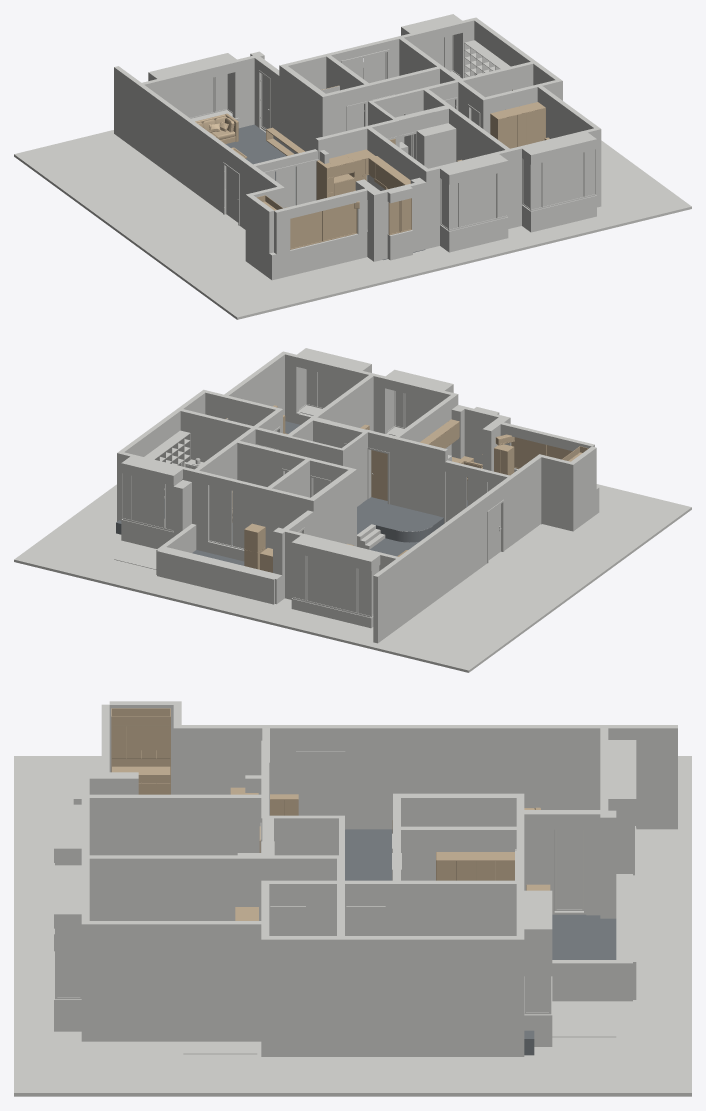
File: interaction_proxy.glb
3 renders of one model, top to bottom at view 1: azimuth 30°, elevation 25°; view 2: azimuth 150°, elevation 25°; view 3: azimuth 270°, elevation 25°, orthographic. The views are drawn at different scales.
Visible parts, largest first — view 1: R3_HOUSE_WALLS_D107_ROLLED_BACK.001, SITE_GROUND.001, V4_W-MB-S_FRONT_GLASS_1.001, V4_W-SMB-S_FRONT_GLASS_1.001, LIVING_FIX_BAY_FRONT_GLASS_1.001, FLOOR_LOWER.001, V2_KITCHEN_DISPLAY_CABINET_REAR_WALL.001, B11_SITE_BALCONY_WINDOW_GLASS_1.001, B11_SITE_BALCONY_WINDOW_GLASS_0.001, R3_COMPLETE_PARTITION_WALLS.001, B11_Rectangle047_CATALOG_00_00.001, B11_G-DIN-LIV_HOST_GLASS2.001 (+6 smaller); view 2: R3_HOUSE_WALLS_D107_ROLLED_BACK.001, SITE_GROUND.001, R4_UPPER_FLOOR_CONTINUOUS_STRAIGHT_THRESHOLD.001, LIVING_FIX_BAY_FRONT_GLASS_1.001, R3_COMPLETE_PARTITION_WALLS.001, V4_W-STUDY-NE_FRONT_GLASS_1.001, V4_GUEST_B11_G-GB-BALC_HOST_GLASS1.001, V2_KITCHEN_DISPLAY_CABINET_REAR_WALL.001, V4_GUEST_B11_G-GB-BALC_HOST_GLASS0.001, V4_W-MB-S_FRONT_GLASS_1.001, R4_BEDROOM_DOOR_LEAF.001, FLOOR_LOWER.001 (+9 smaller); view 3: R3_HOUSE_WALLS_D107_ROLLED_BACK.001, SITE_GROUND.001, FLOOR_LOWER.001, R3_COMPLETE_PARTITION_WALLS.001, PLATE_GAP20_TO_VERIFY.001, DOOR_V2_NBALC_SINGLE_GLASS.001, V4_ENT-1_LEAF_1.001, V4_W-MB-S_SIDE_1_GLASS_0.001, V4_W-STUDY-NE_SIDE_1_GLASS_0.001, V5_CORNER_PATCH_J21_1.001, V5_CORNER_PATCH_J26_1.001, B11_SITE_BUFFET_BACK.001 (+10 smaller).
Part boxes in pixels (x1,y1,x2,y2): R3_HOUSE_WALLS_D107_ROLLED_BACK.001: [114, 14, 598, 278]; SITE_GROUND.001: [14, 128, 691, 319]; V4_W-MB-S_FRONT_GLASS_1.001: [543, 152, 583, 206]; V4_W-SMB-S_FRONT_GLASS_1.001: [460, 174, 496, 226]; LIVING_FIX_BAY_FRONT_GLASS_1.001: [164, 77, 213, 117]; FLOOR_LOWER.001: [225, 124, 425, 259]; V2_KITCHEN_DISPLAY_CABINET_REAR_WALL.001: [248, 195, 273, 253]; B11_SITE_BALCONY_WINDOW_GLASS_1.001: [323, 203, 356, 240]; B11_SITE_BALCONY_WINDOW_GLASS_0.001: [290, 211, 322, 248]; R3_COMPLETE_PARTITION_WALLS.001: [370, 102, 447, 157]; B11_Rectangle047_CATALOG_00_00.001: [195, 113, 238, 143]; B11_G-DIN-LIV_HOST_GLASS2.001: [297, 161, 315, 204]; R3_HOUSE_WALLS_D107_ROLLED_BACK.001: [120, 348, 596, 643]; SITE_GROUND.001: [14, 484, 691, 672]; R4_UPPER_FLOOR_CONTINUOUS_STRAIGHT_THRESHOLD.001: [116, 421, 443, 544]; LIVING_FIX_BAY_FRONT_GLASS_1.001: [307, 556, 356, 612]; R3_COMPLETE_PARTITION_WALLS.001: [313, 417, 369, 502]; V4_W-STUDY-NE_FRONT_GLASS_1.001: [132, 476, 163, 527]; V4_GUEST_B11_G-GB-BALC_HOST_GLASS1.001: [210, 485, 230, 545]; V2_KITCHEN_DISPLAY_CABINET_REAR_WALL.001: [571, 446, 596, 504]; V4_GUEST_B11_G-GB-BALC_HOST_GLASS0.001: [232, 491, 253, 548]; V4_W-MB-S_FRONT_GLASS_1.001: [318, 372, 357, 407]; R4_BEDROOM_DOOR_LEAF.001: [371, 450, 387, 500]; FLOOR_LOWER.001: [192, 481, 541, 565]; R3_HOUSE_WALLS_D107_ROLLED_BACK.001: [54, 701, 677, 1056]; SITE_GROUND.001: [14, 756, 691, 1096]; FLOOR_LOWER.001: [345, 829, 616, 959]; R3_COMPLETE_PARTITION_WALLS.001: [261, 815, 341, 855]; PLATE_GAP20_TO_VERIFY.001: [552, 1001, 616, 1037]; DOOR_V2_NBALC_SINGLE_GLASS.001: [556, 830, 582, 908]; V4_ENT-1_LEAF_1.001: [312, 753, 342, 815]; V4_W-MB-S_SIDE_1_GLASS_0.001: [57, 929, 80, 996]; V4_W-STUDY-NE_SIDE_1_GLASS_0.001: [526, 944, 548, 1012]; V5_CORNER_PATCH_J21_1.001: [81, 921, 89, 1041]; V5_CORNER_PATCH_J26_1.001: [516, 936, 524, 1056]; B11_SITE_BUFFET_BACK.001: [112, 708, 170, 794].
Bounding box in the file's own units: 20 × 3.37 × 17.
